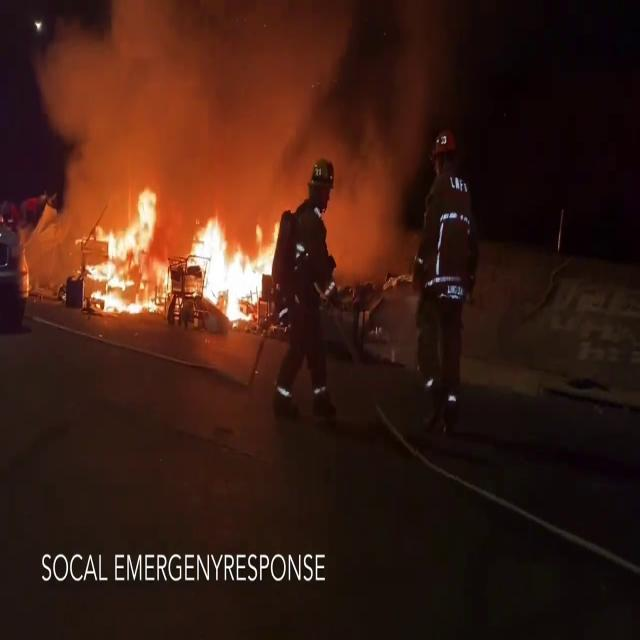Fire: (82, 181, 178, 313), (188, 211, 278, 325)
Smoke: (34, 0, 452, 203)
